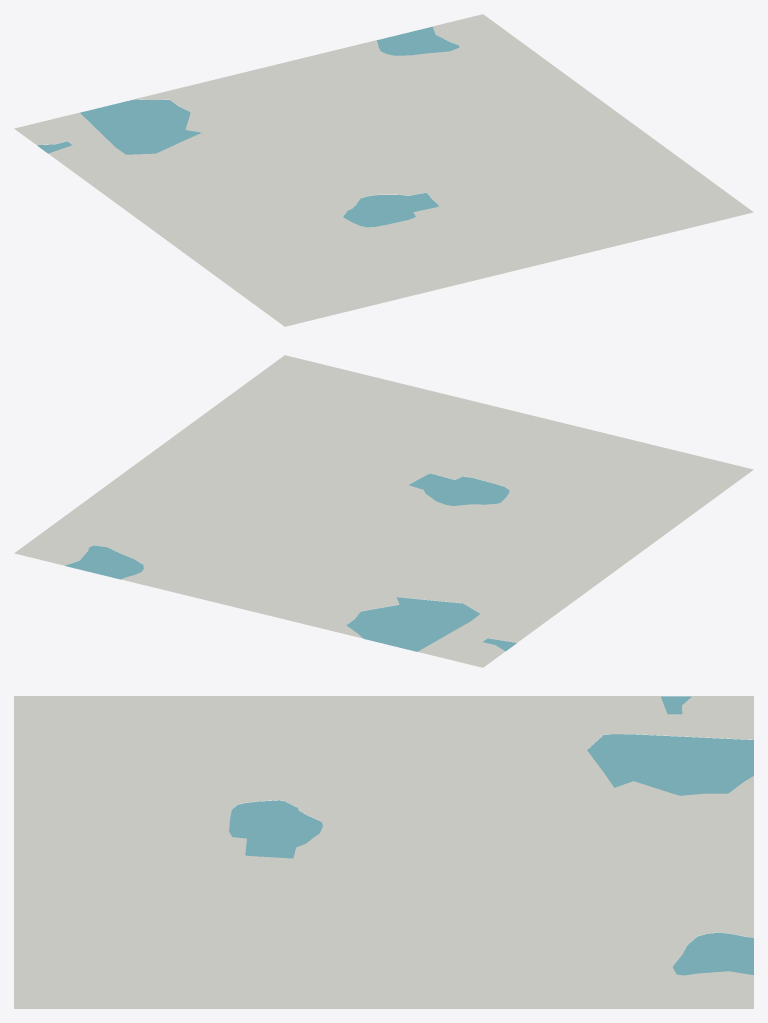
3 renders of one model, top to bottom at view 1: azimuth 30°, elevation 25°; view 2: azimuth 150°, elevation 25°; view 3: azimuth 270°, elevation 25°, orthographic. The views are drawn at different scales.
Visible parts, largest first — view 1: city; view 2: city; view 3: city.
Boxes of the visible parts, bbox=[...] form: city: bbox=[14, 14, 753, 326]; city: bbox=[14, 355, 753, 667]; city: bbox=[14, 696, 753, 1008].
Bounding box in the file's own units: 500 × 0.18 × 500.
